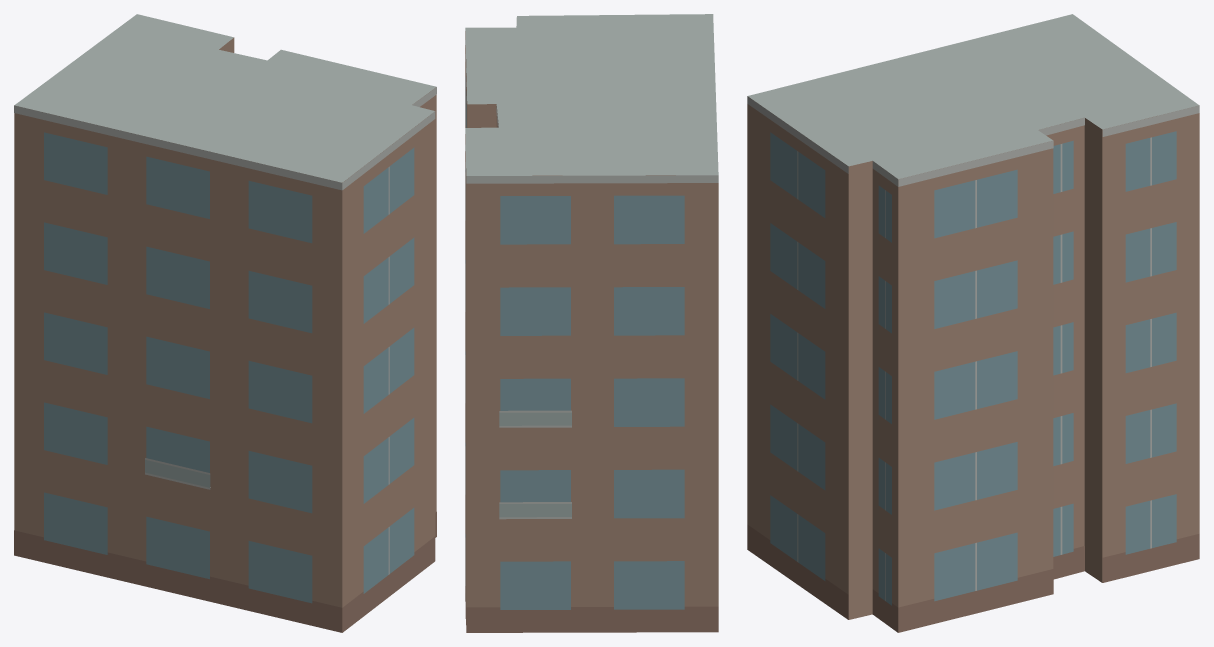
Rendered from survey-upis-32627250.glb.
3 renders of one model, left to right at view 1: azimuth 30°, elevation 25°; view 2: azimuth 150°, elevation 25°; view 3: azimuth 270°, elevation 25°, orthographic.
Visible parts, largest first — view 1: survey-upis-32627250.tmp; view 2: survey-upis-32627250.tmp; view 3: survey-upis-32627250.tmp.
Part boxes in pixels (x1,y1,x2,y2): survey-upis-32627250.tmp: [14, 14, 436, 632]; survey-upis-32627250.tmp: [465, 14, 718, 632]; survey-upis-32627250.tmp: [747, 14, 1199, 632].
Size of the model in its own units: 11.22 by 14.35 by 12.97.
